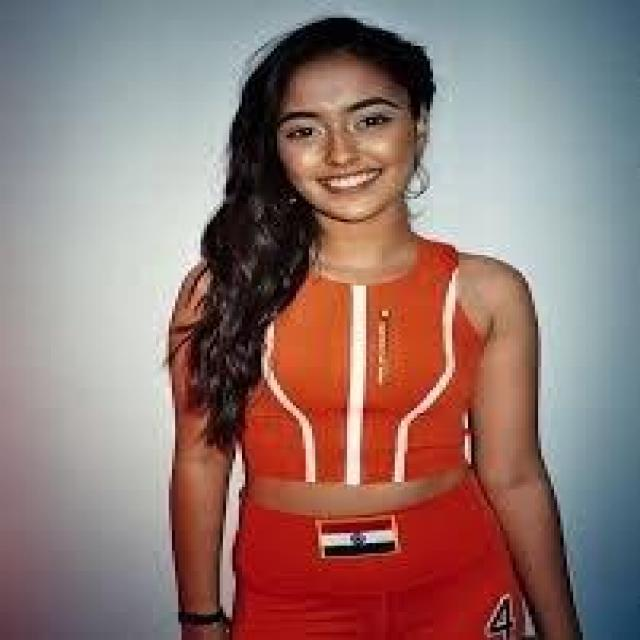person: (93, 5, 612, 638)
